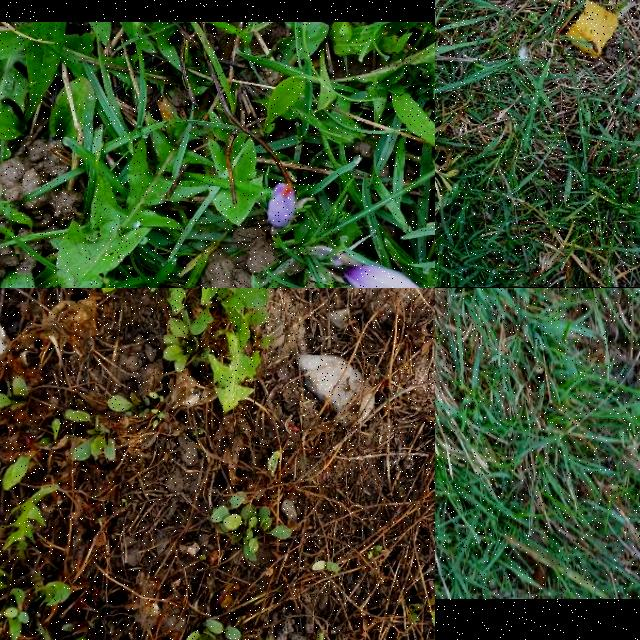flower: (337, 263, 426, 288), (269, 184, 297, 230)
